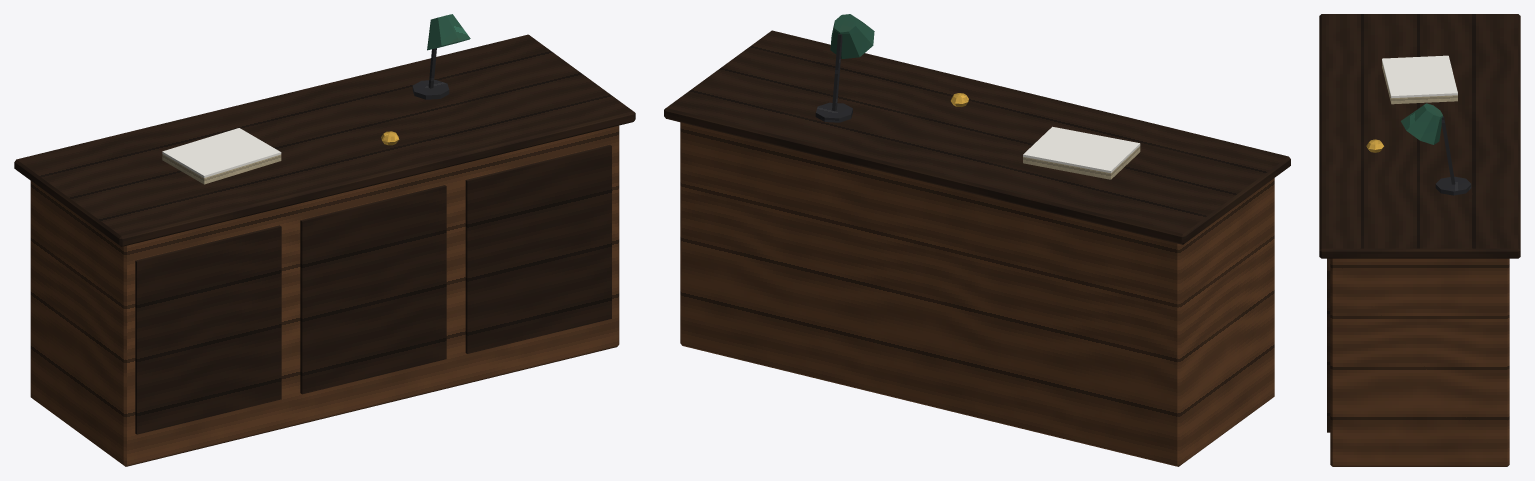
File: key_counter.glb
The picture shows the model from 3 angles, left to right: view 1: azimuth 30°, elevation 25°; view 2: azimuth 150°, elevation 25°; view 3: azimuth 270°, elevation 25°; orthographic projection. The views are drawn at different scales.
Visible parts, largest first — view 1: key_counter; view 2: key_counter; view 3: key_counter.
Boxes of the visible parts, <box> form: key_counter: <box>14,14,635,466</box>; key_counter: <box>664,14,1290,466</box>; key_counter: <box>1319,14,1520,466</box>.
Size of what is drawn, in the model's own units: 2.5 by 1.51 by 0.9.
7 materials, 6 textured.
